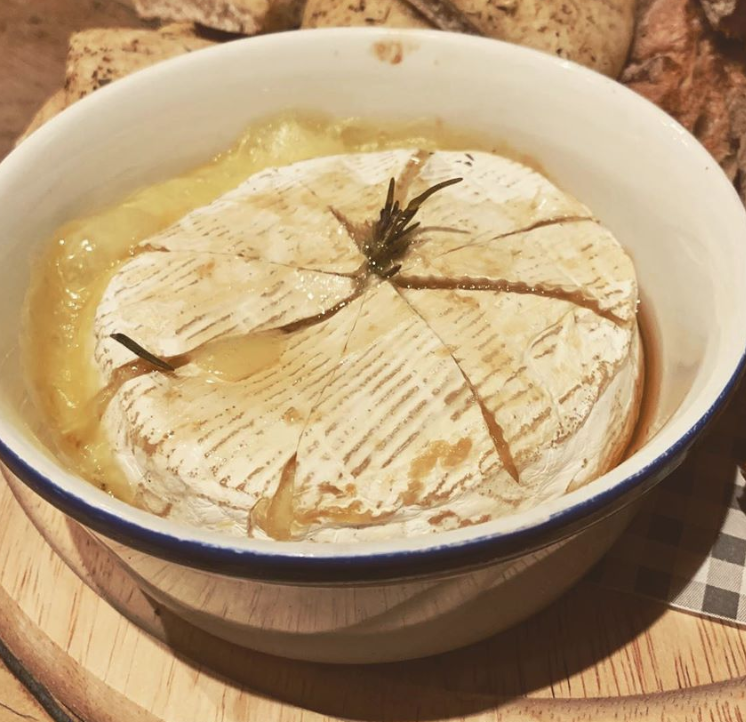camembert: (87, 143, 642, 551)
